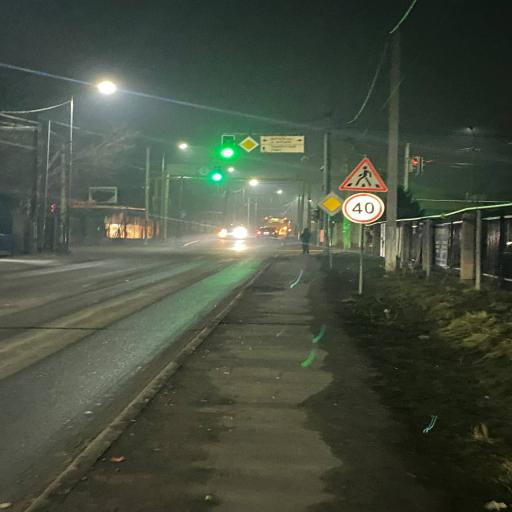construction_fence: (21, 250, 280, 512)
ramp: (0, 228, 284, 512)
shelf: (44, 252, 437, 512)
table: (185, 124, 266, 204)
